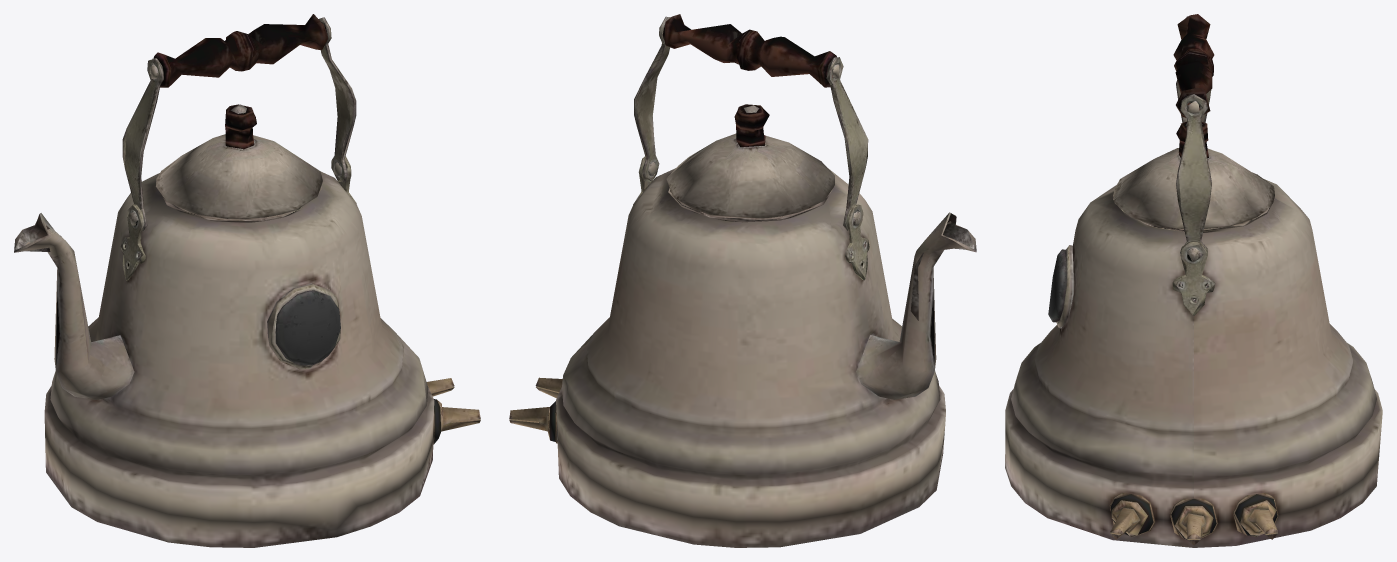
The model's file is kettle.glb.
3 renders of one model, left to right at view 1: azimuth 30°, elevation 25°; view 2: azimuth 150°, elevation 25°; view 3: azimuth 270°, elevation 25°, orthographic. The views are drawn at different scales.
Parts seen in each view (by area): view 1: kettle; view 2: kettle; view 3: kettle.
Boxes of the visible parts, <box> form: kettle: <box>14,14,480,547</box>; kettle: <box>509,14,976,547</box>; kettle: <box>1005,14,1382,547</box>.
Size of the model in its own units: 0.3201 by 0.3035 by 0.2478.
2 materials, 2 textured.
